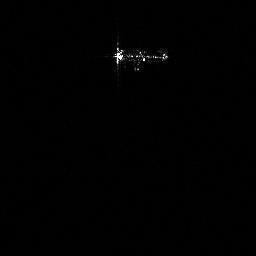ship: (104, 40, 178, 76)
